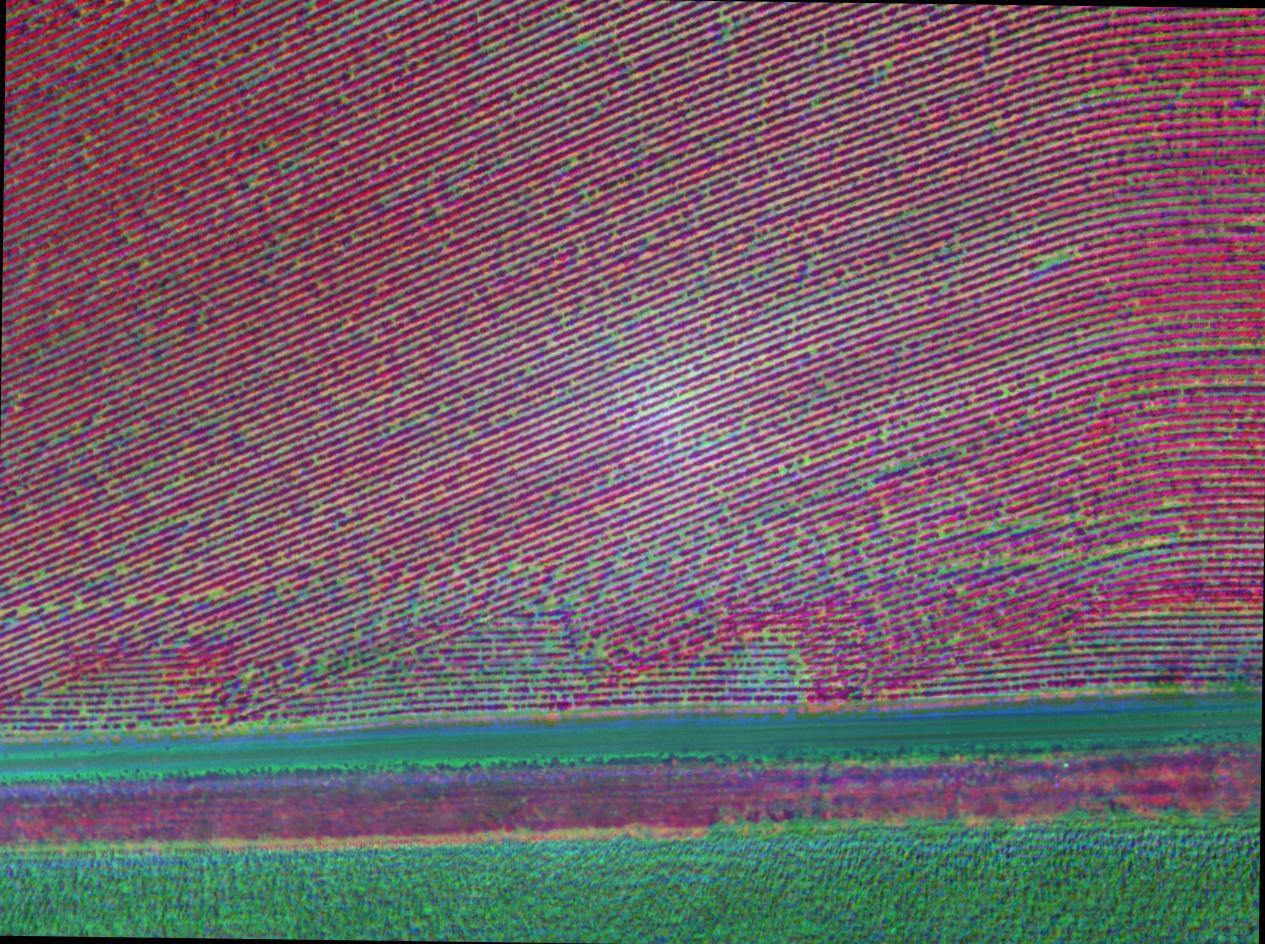dc: (1044, 256, 1057, 265), (1028, 515, 1037, 527), (1165, 497, 1175, 507), (789, 648, 798, 659), (211, 589, 223, 597), (508, 562, 519, 569), (1245, 87, 1252, 98)
